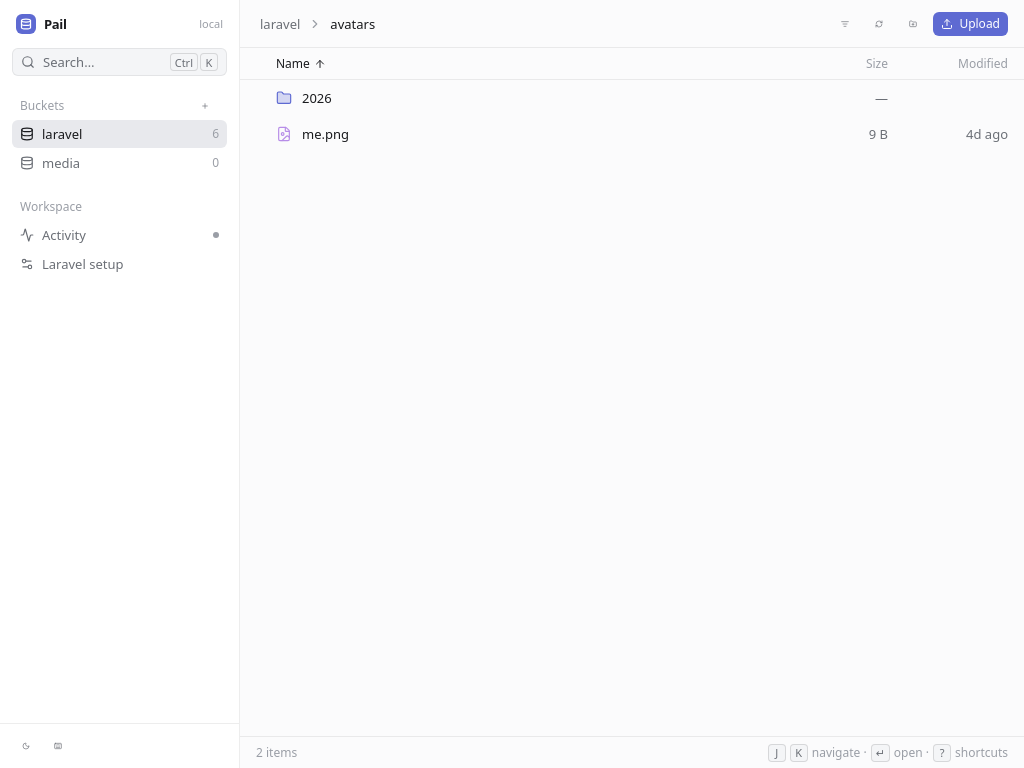
BucketView › creates a folder with n
expect the text "me.png" is shown: met, box [302,124,349,144]
Type keys "n"
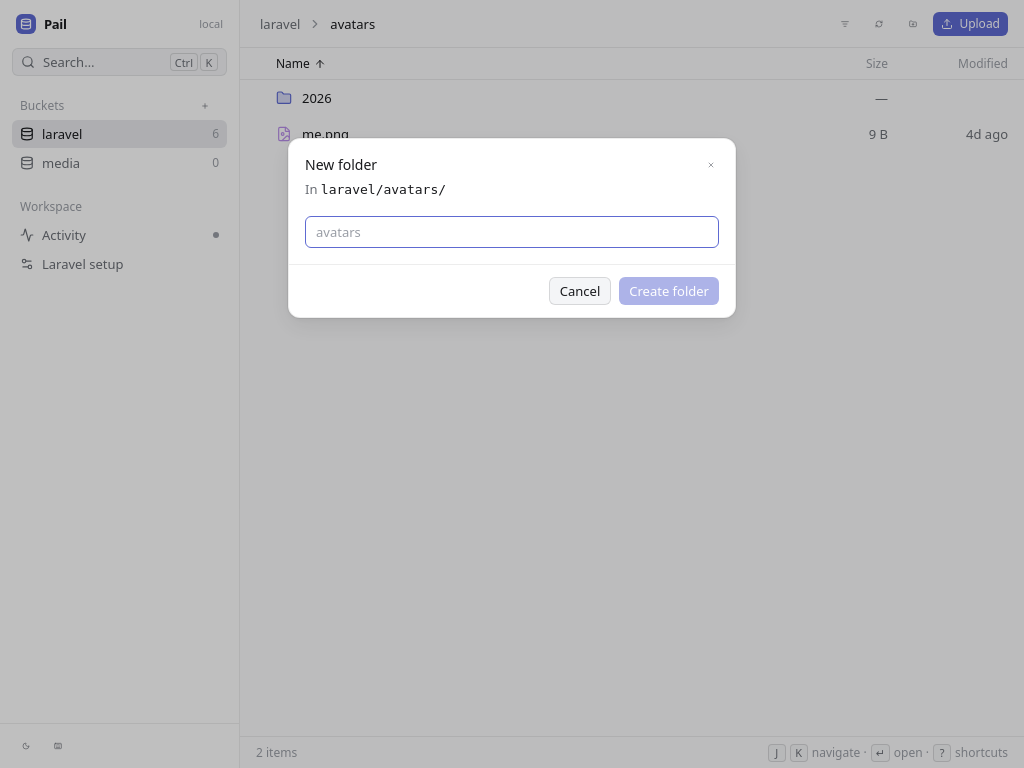
Type "thumbs" into the field named "Folder name" at (512, 232), box [305,216,719,248]
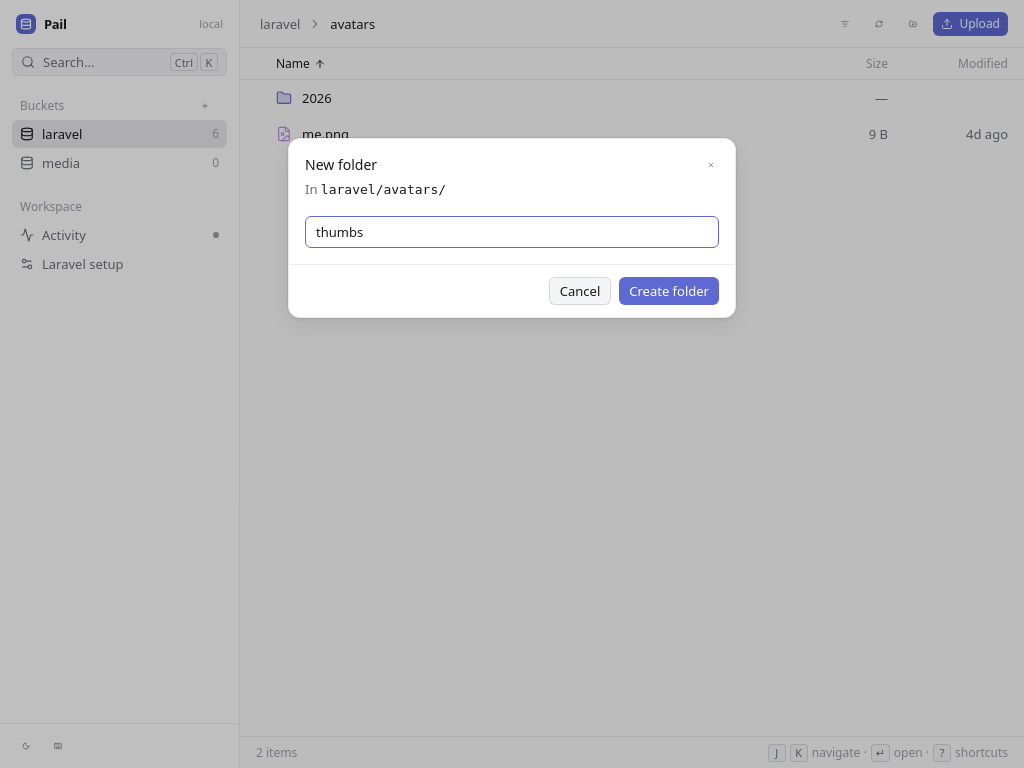
Click the button "Create folder" at (669, 291), box [619,277,719,305]
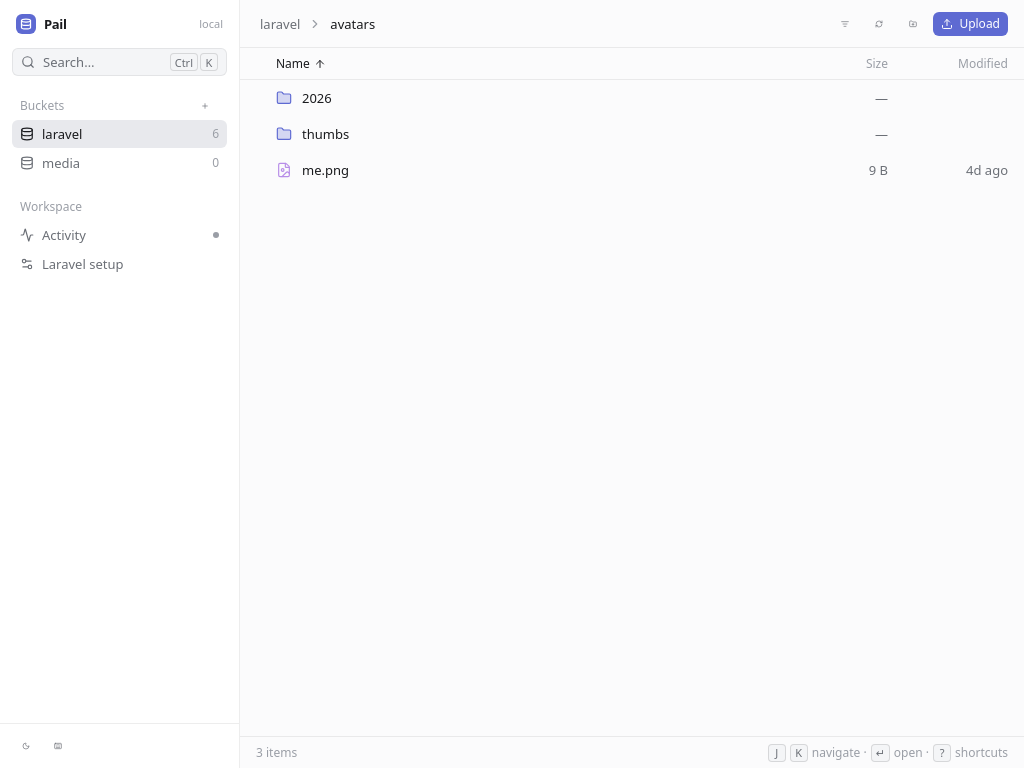
expect the text "thumbs" is shown: met, box [302,124,349,144]
